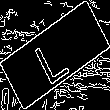L_NW: (33, 25, 77, 85)
